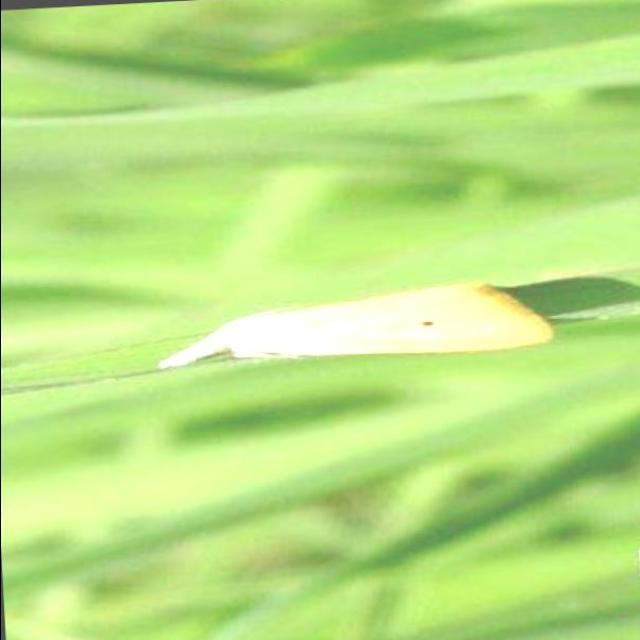stem borer: (156, 284, 557, 368)
